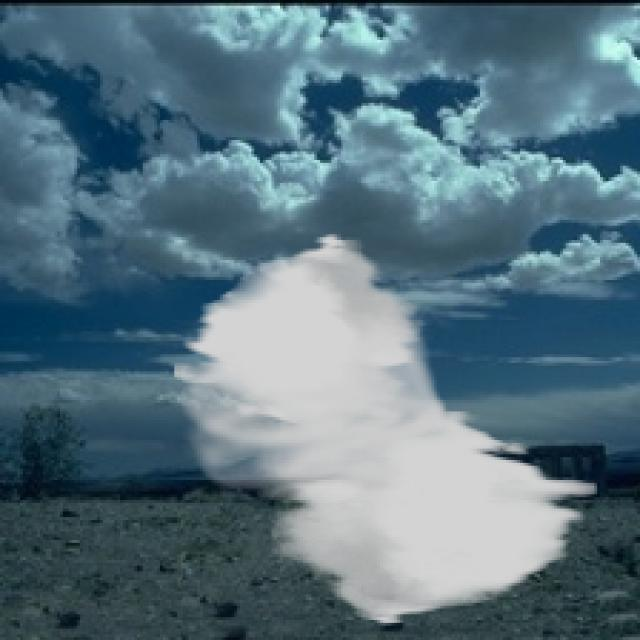Smoke: (172, 231, 597, 626)
